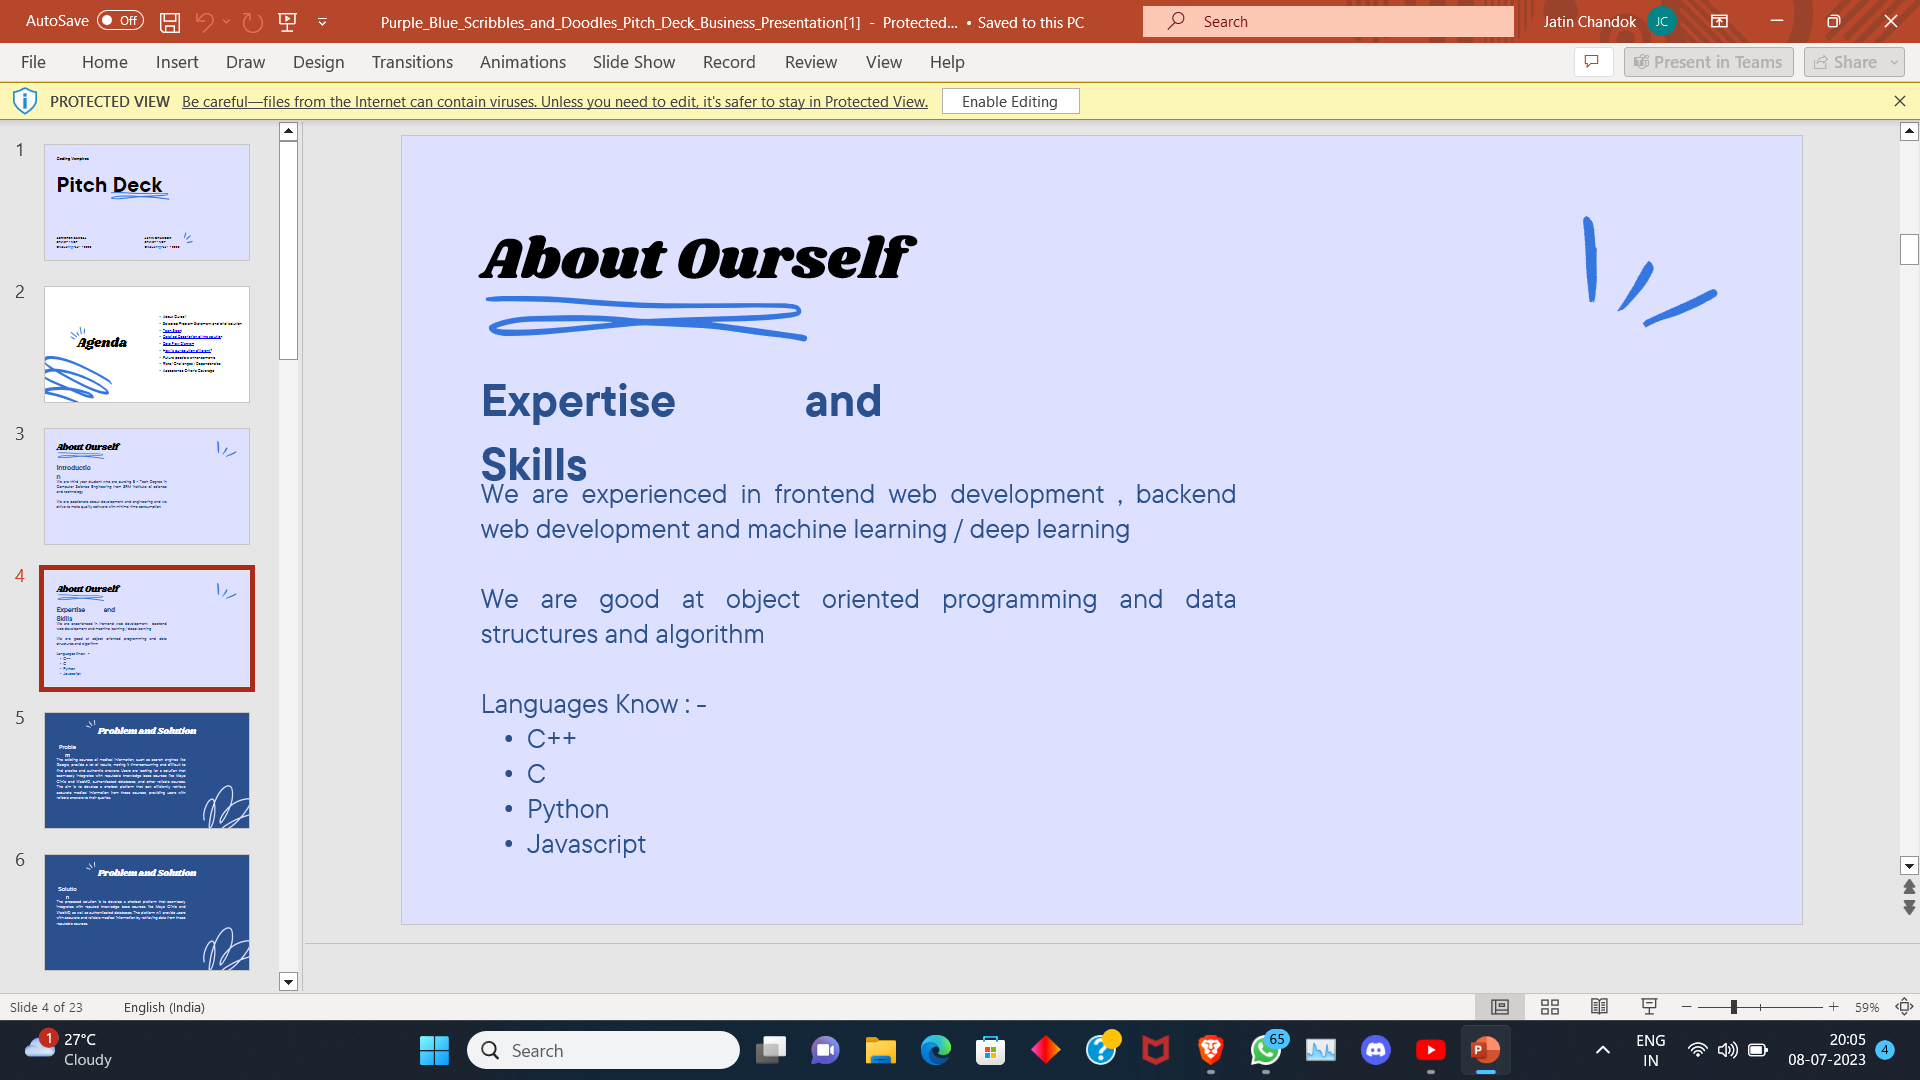Image: (1510, 187, 1735, 347)
Paragraph: (440, 479, 1337, 588), (407, 584, 1385, 675), (447, 363, 984, 481), (409, 684, 775, 716), (411, 832, 778, 864), (401, 791, 767, 823), (415, 758, 782, 790), (415, 723, 782, 753)
